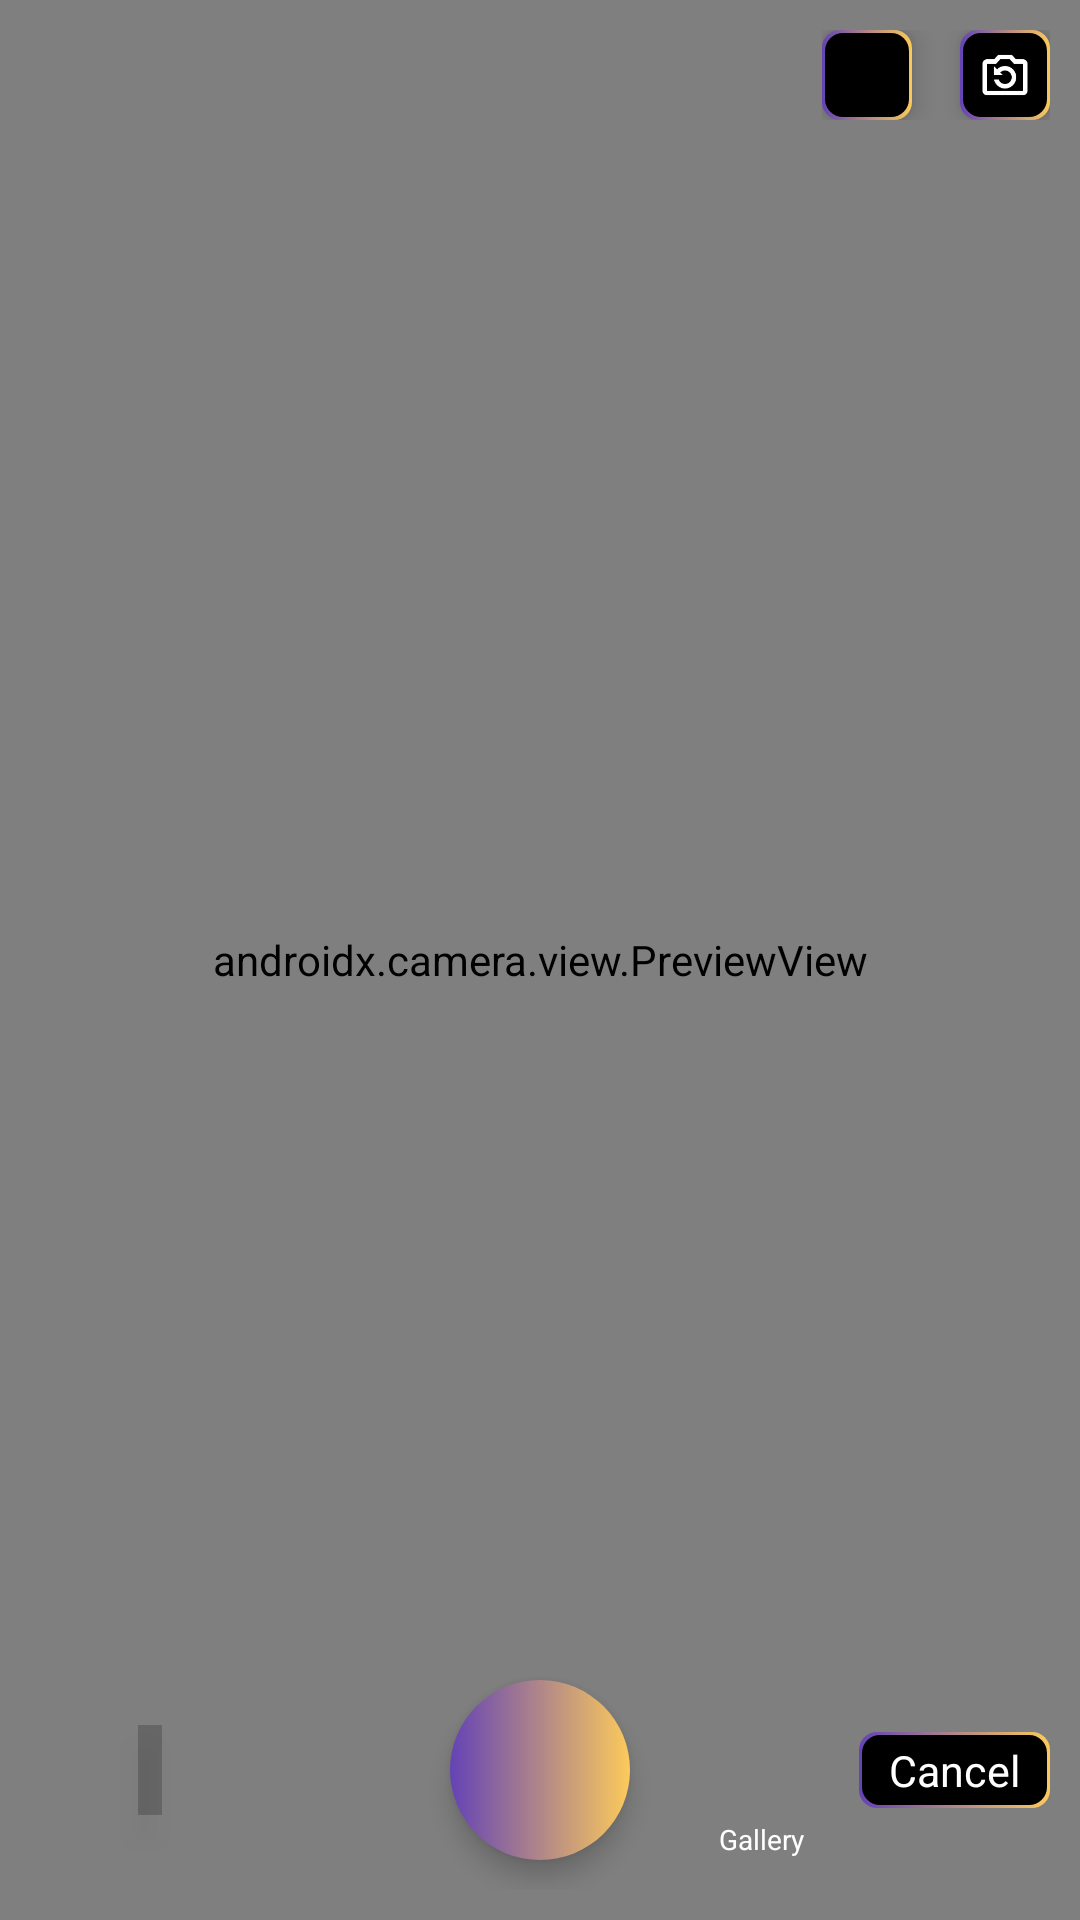

Icon bounding boxes for this 1080w x 1920h phone screenshot, format (x1, y1, x2, y2):
rotate camera: (960, 30, 1050, 120)
